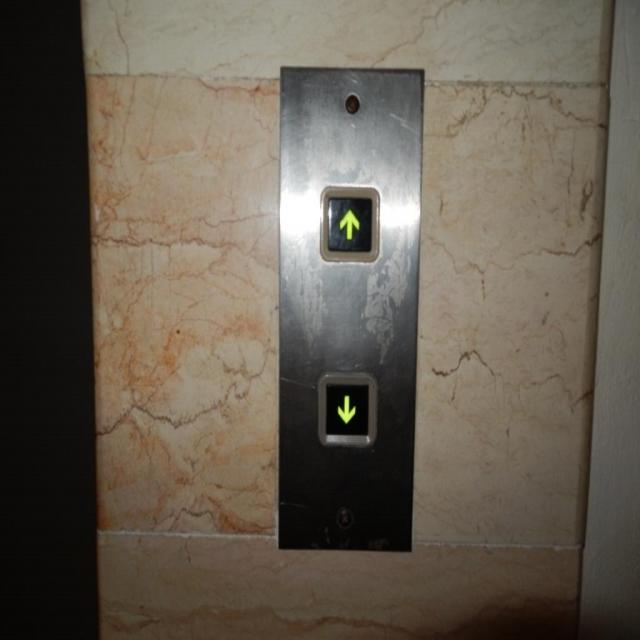down: (317, 371, 377, 445)
up: (320, 185, 379, 261)
